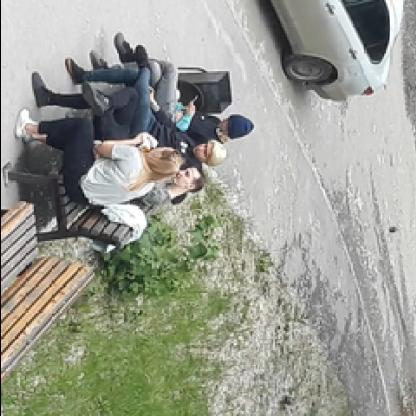Human Body: (28, 66, 206, 211), (60, 50, 228, 176), (9, 103, 184, 212), (108, 24, 258, 148), (108, 24, 228, 175)
